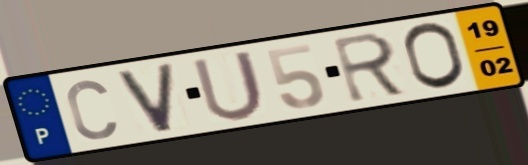5: (262, 41, 327, 111)
C: (63, 77, 120, 143)
O: (400, 20, 469, 92)
R: (330, 30, 412, 105)
U: (189, 47, 268, 124)
V: (114, 60, 176, 136)
